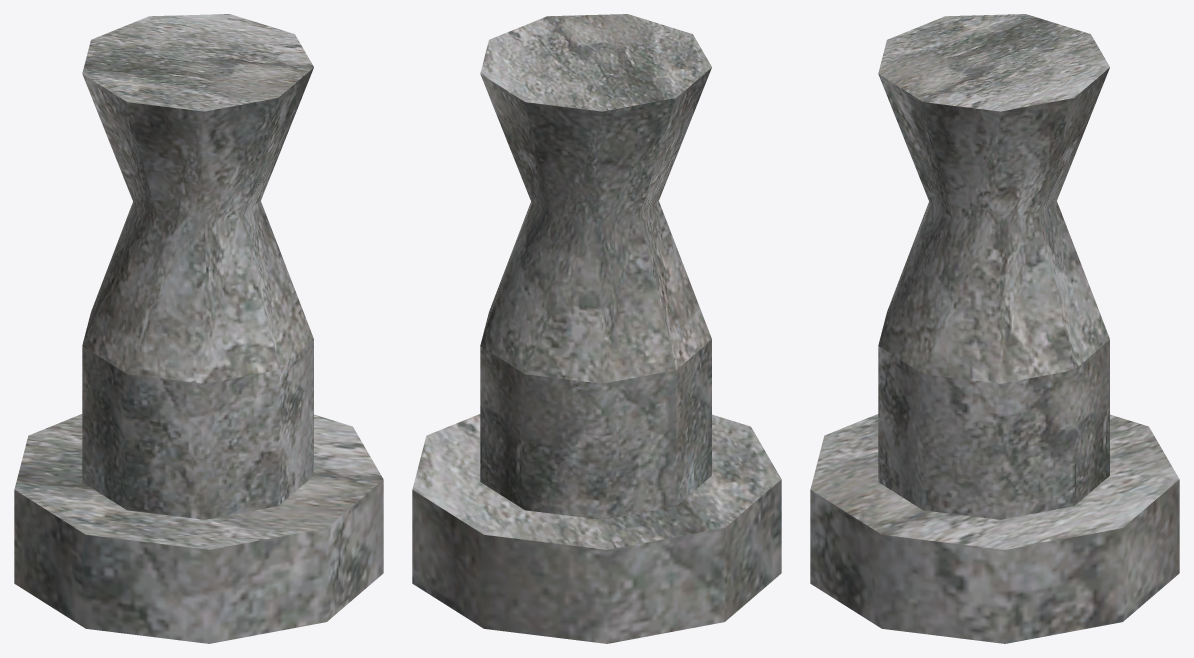
File: celt_sb_mill.glb
3 renders of one model, left to right at view 1: azimuth 30°, elevation 25°; view 2: azimuth 150°, elevation 25°; view 3: azimuth 270°, elevation 25°, orthographic.
Parts seen in each view (by area): view 1: special_mill-Pivot; view 2: special_mill-Pivot; view 3: special_mill-Pivot.
Boxes of the visible parts, box(x1,y1,x2,y2) form: special_mill-Pivot: box(14, 14, 383, 643); special_mill-Pivot: box(412, 14, 781, 643); special_mill-Pivot: box(810, 14, 1179, 643).
Size of the model in its own units: 2.24 by 3.38 by 2.25.
1 material, 1 textured.
